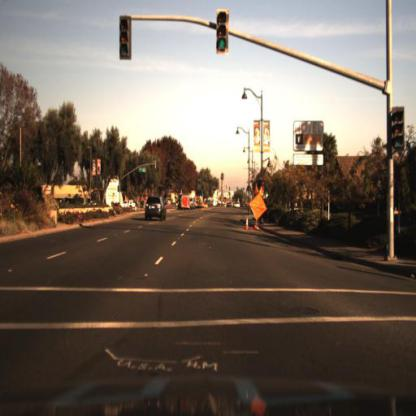car: (139, 189, 173, 223), (180, 194, 197, 210), (120, 200, 138, 213)
